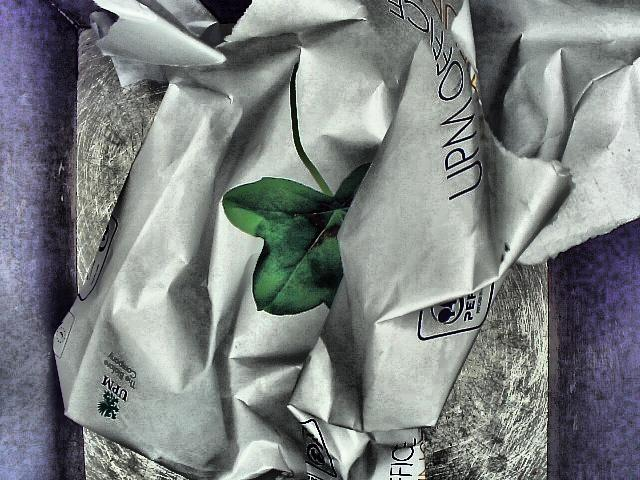Paper: (7, 2, 640, 480)
